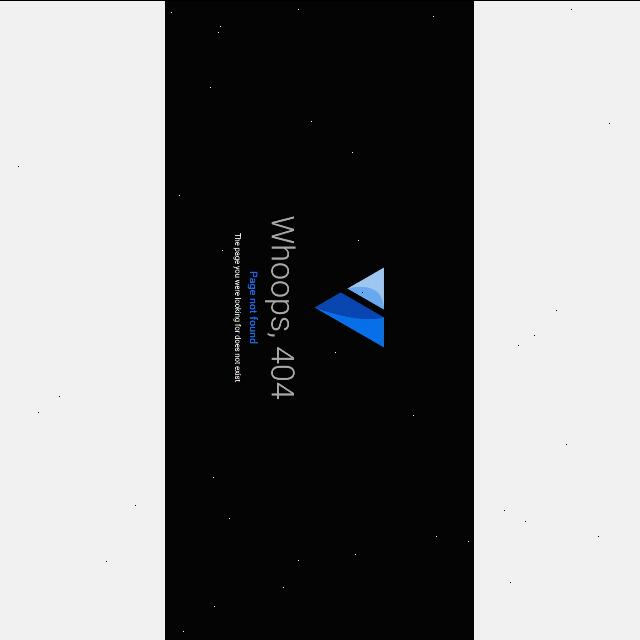QLabel: (268, 214, 296, 398), (232, 232, 244, 382), (248, 269, 258, 345)
VImg: (314, 265, 386, 349)
